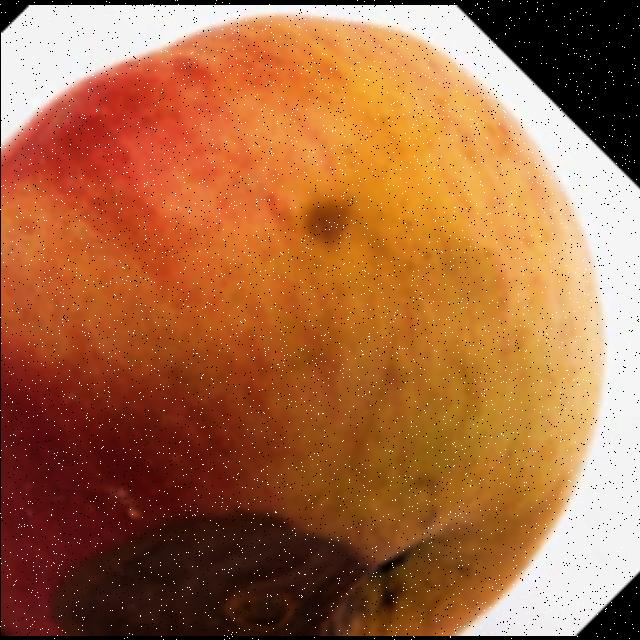Apel Tidak Segar: (0, 4, 616, 636)
